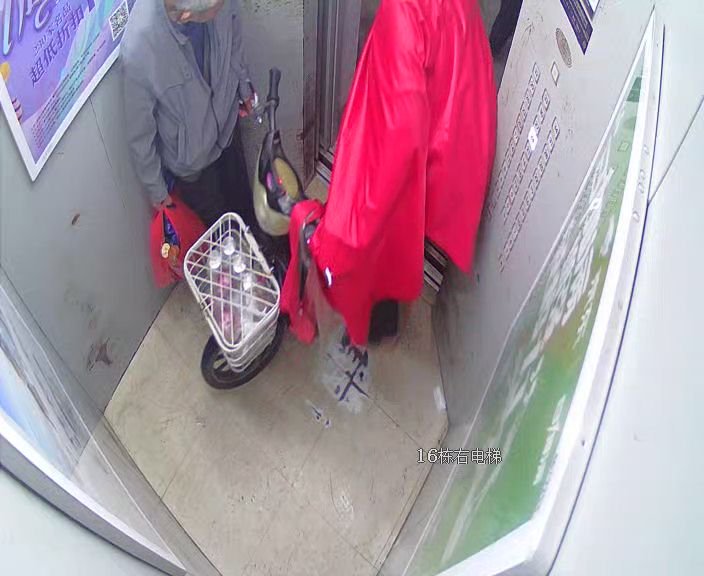Electric-bicycle: (184, 69, 324, 393)
